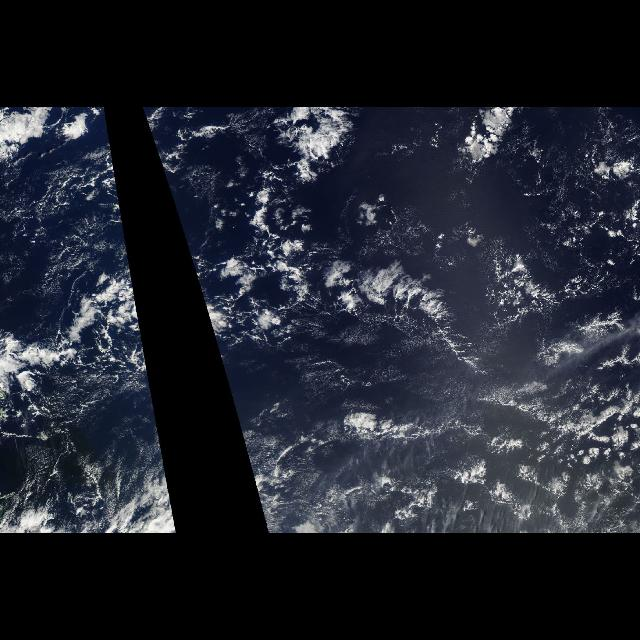Fish: (320, 258, 492, 378)
Flower: (302, 393, 638, 531)
Gravel: (146, 124, 562, 373), (23, 124, 149, 373)
Sugar: (289, 362, 497, 470)
